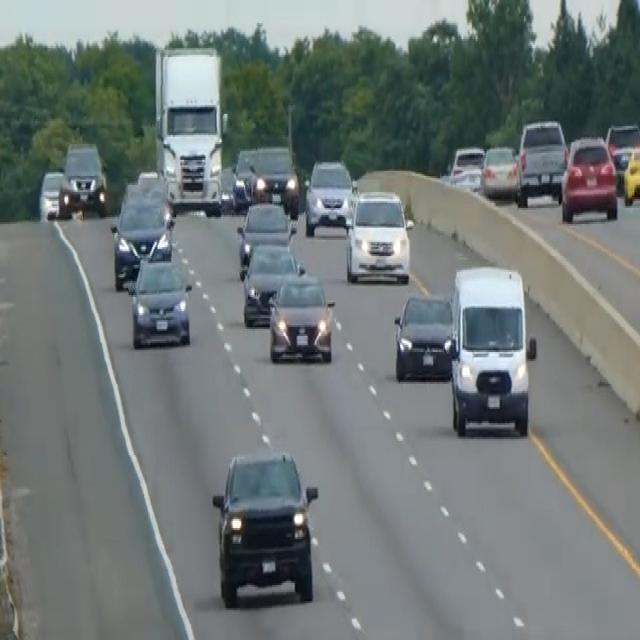car: (344, 186, 412, 284), (267, 268, 335, 362), (110, 188, 173, 288), (127, 256, 192, 348), (393, 290, 453, 382), (241, 238, 302, 327), (560, 134, 618, 222), (515, 116, 568, 204), (236, 198, 292, 276), (304, 156, 354, 234), (59, 139, 107, 217), (251, 144, 299, 215), (605, 121, 639, 190), (480, 142, 518, 199), (136, 167, 176, 219), (447, 144, 485, 192), (232, 146, 258, 204), (38, 167, 65, 219), (622, 142, 639, 206)
jeep: (210, 444, 320, 606)
lorry: (152, 43, 228, 215)
minibus: (445, 260, 538, 439)
